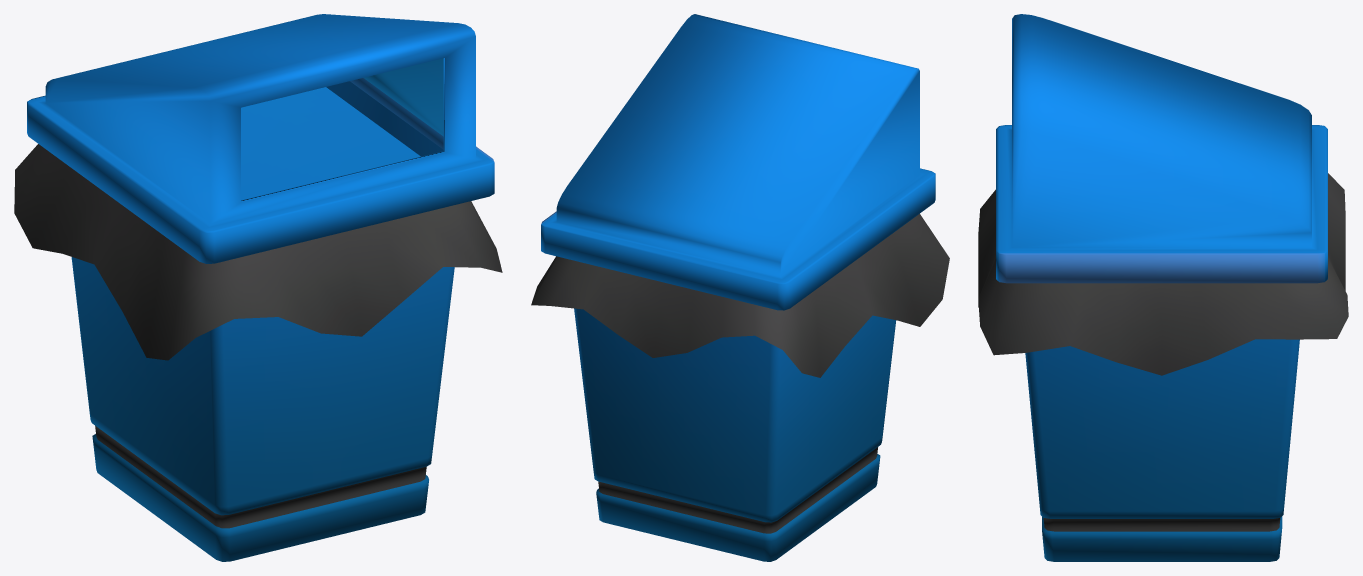
Rendered from Garbagebin.fbx.
The picture shows the model from 3 angles, left to right: view 1: azimuth 30°, elevation 25°; view 2: azimuth 150°, elevation 25°; view 3: azimuth 270°, elevation 25°; orthographic projection. The views are drawn at different scales.
Parts seen in each view (by area): view 1: Cube.002; view 2: Cube.002; view 3: Cube.002.
Boxes of the visible parts, x1,y1,x2,y2 form: Cube.002: (14, 14, 502, 561); Cube.002: (531, 14, 949, 561); Cube.002: (978, 14, 1348, 561).
Bounding box in the file's own units: 39.69 × 56.06 × 42.48.
